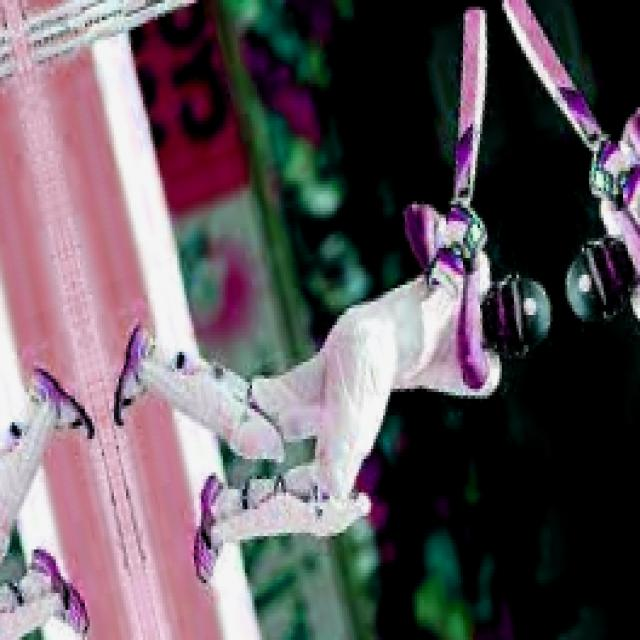toe: (458, 8, 491, 30)
